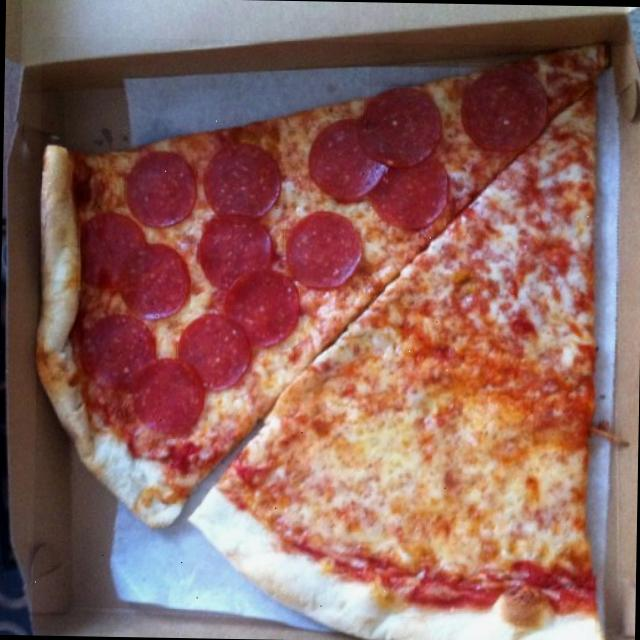pepperoni: (456, 61, 546, 153), (361, 85, 444, 164), (117, 240, 191, 326), (308, 118, 387, 198), (198, 215, 280, 292), (220, 268, 298, 346), (369, 151, 447, 228), (130, 358, 205, 438), (282, 212, 363, 286), (176, 314, 252, 392), (200, 144, 281, 214), (125, 150, 196, 228), (78, 211, 144, 290), (86, 316, 156, 387)
pizza: (37, 45, 607, 640)
